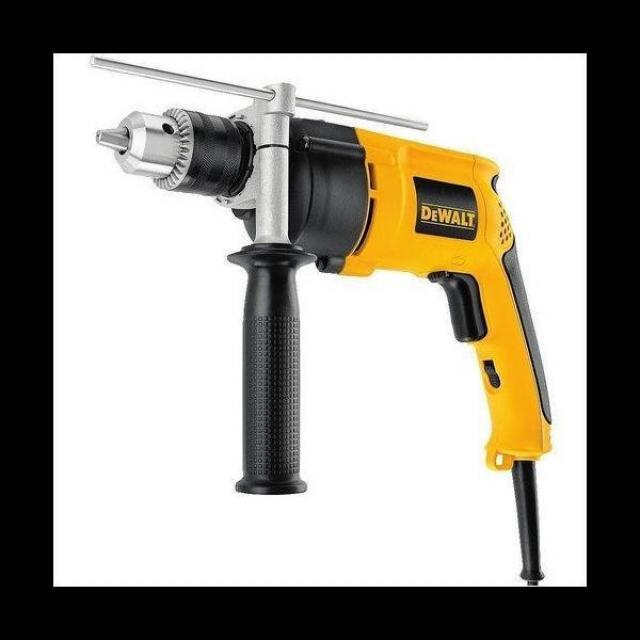drill: (88, 54, 552, 586)
